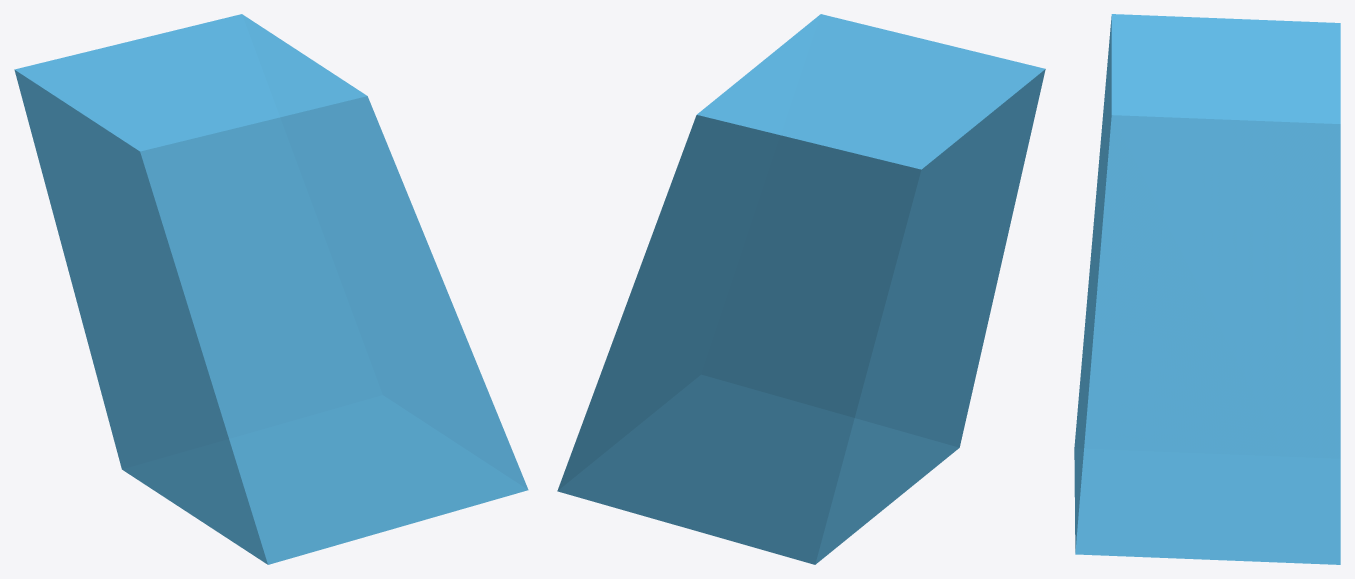
Rendered from Event_420107950_HBrechit_21.fbx.
The picture shows the model from 3 angles, left to right: view 1: azimuth 30°, elevation 25°; view 2: azimuth 150°, elevation 25°; view 3: azimuth 270°, elevation 25°; orthographic projection. The views are drawn at different scales.
Parts seen in each view (by area): view 1: Model; view 2: Model; view 3: Model.
Boxes of the visible parts, x1,y1,x2,y2 form: Model: [14, 14, 528, 564]; Model: [557, 14, 1045, 564]; Model: [1074, 14, 1340, 564].
Size of the model in its own units: 0.6792 by 0.7682 by 0.4667.
